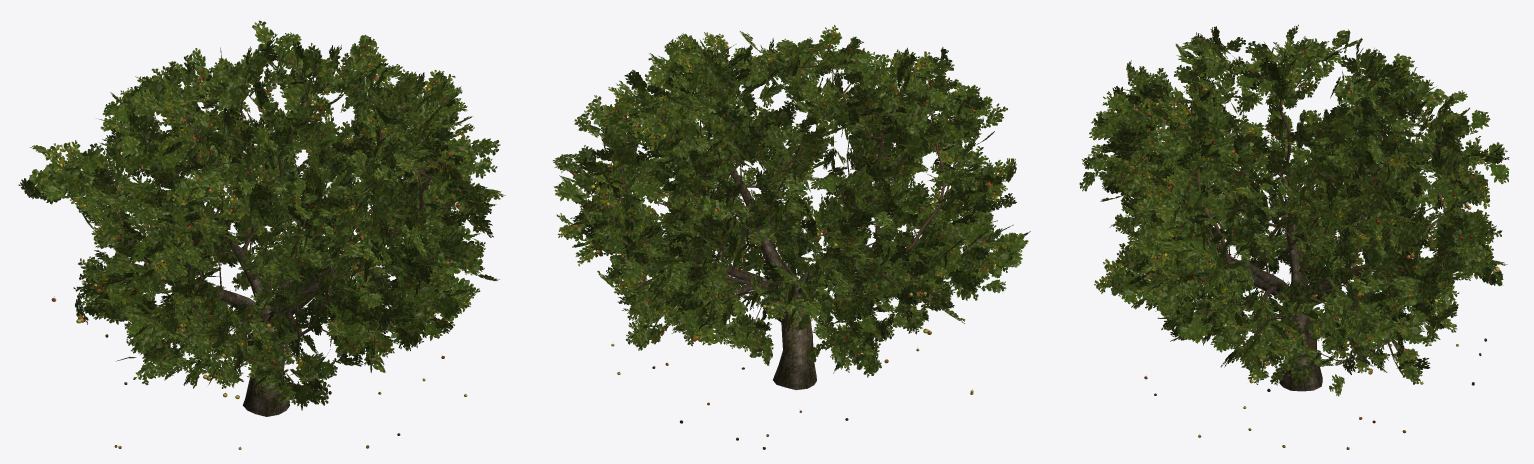
The model's file is jablon_1.glb.
The picture shows the model from 3 angles, left to right: view 1: azimuth 30°, elevation 25°; view 2: azimuth 150°, elevation 25°; view 3: azimuth 270°, elevation 25°; orthographic projection. The views are drawn at different scales.
Visible parts, largest first — view 1: jablon_1; view 2: jablon_1; view 3: jablon_1.
Part boxes in pixels (x1=…): jablon_1: x1=18, y1=20, x2=505, y2=416; jablon_1: x1=553, y1=25, x2=1030, y2=390; jablon_1: x1=1079, y1=24, x2=1509, y2=396.
Size of the model in its own units: 8.8 by 6.78 by 8.45.
5 materials, 5 textured.
